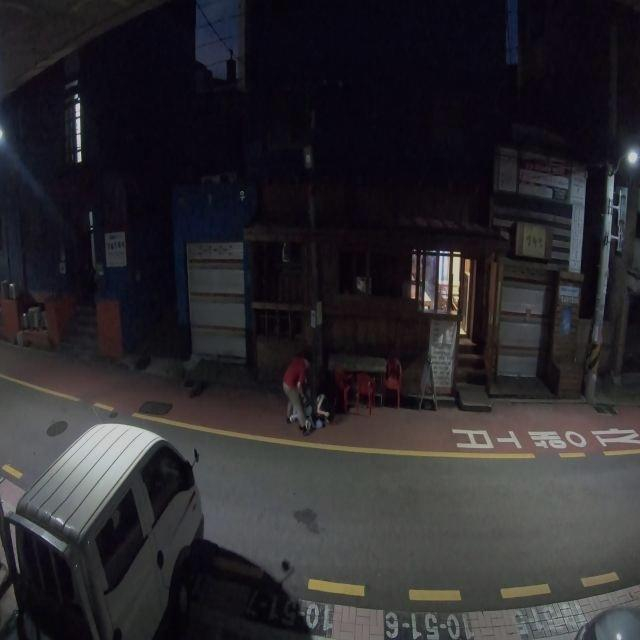fight: (281, 354, 333, 436)
